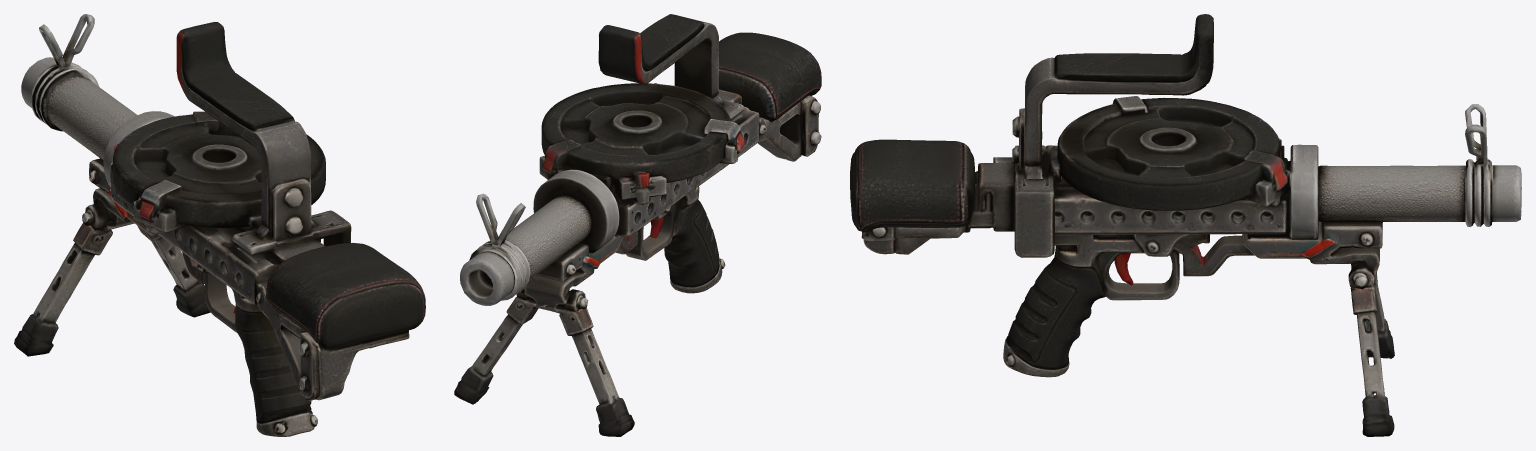
File: weapon-deadlift-v2.glb
3 renders of one model, left to right at view 1: azimuth 30°, elevation 25°; view 2: azimuth 150°, elevation 25°; view 3: azimuth 270°, elevation 25°, orthographic. The views are drawn at different scales.
Parts seen in each view (by area): view 1: tripo_node_f7ee48e6-a67d-4a64-af94-f386fdc4f5c5; view 2: tripo_node_f7ee48e6-a67d-4a64-af94-f386fdc4f5c5; view 3: tripo_node_f7ee48e6-a67d-4a64-af94-f386fdc4f5c5.
Part boxes in pixels (box(x1,y1,x2,y2)): tripo_node_f7ee48e6-a67d-4a64-af94-f386fdc4f5c5: box(14, 14, 425, 436); tripo_node_f7ee48e6-a67d-4a64-af94-f386fdc4f5c5: box(454, 14, 821, 436); tripo_node_f7ee48e6-a67d-4a64-af94-f386fdc4f5c5: box(850, 14, 1521, 436).
Bounding box in the file's own units: 0.3661 × 0.6724 × 1.1.
Materials: 1 (1 with a texture image).
